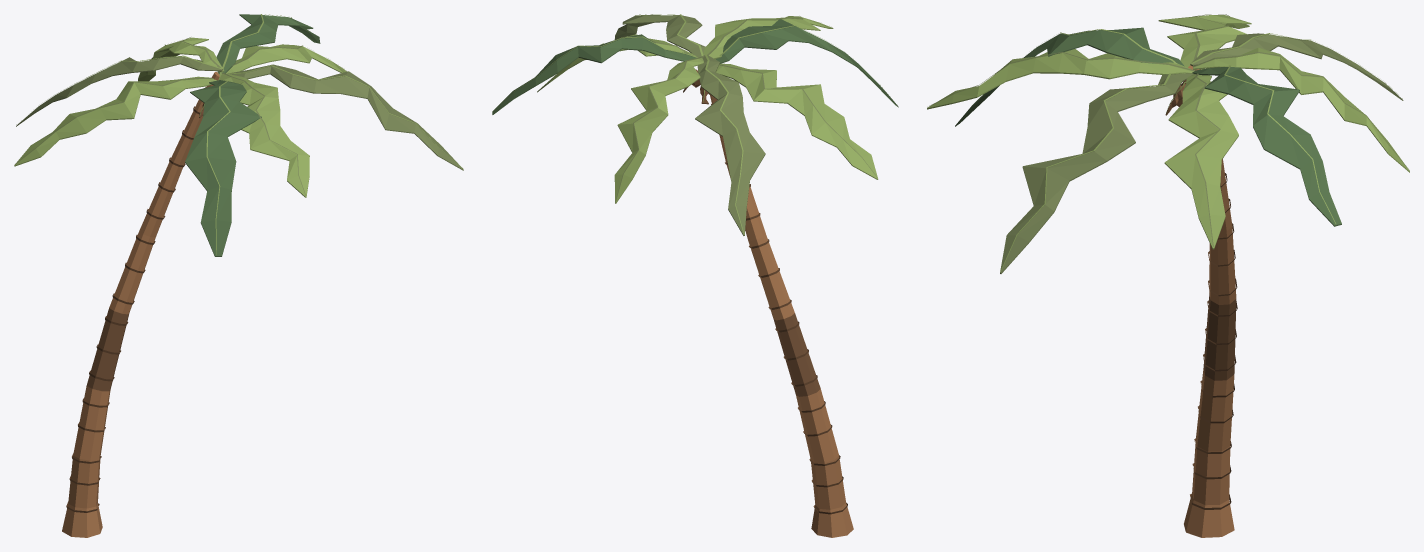
File: prop_palm_leaning.glb
3 views of the same model, side by side, from view 1: azimuth 30°, elevation 25°; view 2: azimuth 150°, elevation 25°; view 3: azimuth 270°, elevation 25° (orthographic). The views are drawn at different scales.
Visible parts, largest first — view 1: prop_palm_leaning__Wild palm frond 05, prop_palm_leaning__Wild palm frond 07, prop_palm_leaning__Wild palm frond 04, prop_palm_leaning__Wild palm frond 06, prop_palm_leaning__Wild palm frond 01, prop_palm_leaning__Wild palm frond 03, prop_palm_leaning__Bent trunk segment 02, prop_palm_leaning__Bent trunk segment 03, prop_palm_leaning__Wild palm frond 00, prop_palm_leaning__Bent trunk segment 04, prop_palm_leaning__Bent trunk segment 01, prop_palm_leaning__Bent trunk segment 05 (+3 smaller); view 2: prop_palm_leaning__Wild palm frond 03, prop_palm_leaning__Wild palm frond 04, prop_palm_leaning__Wild palm frond 02, prop_palm_leaning__Wild palm frond 01, prop_palm_leaning__Wild palm frond 05, prop_palm_leaning__Bent trunk segment 03, prop_palm_leaning__Bent trunk segment 02, prop_palm_leaning__Bent trunk segment 04, prop_palm_leaning__Wild palm frond 07, prop_palm_leaning__Wild palm frond 06, prop_palm_leaning__Bent trunk segment 01, prop_palm_leaning__Bent trunk segment 00 (+2 smaller); view 3: prop_palm_leaning__Wild palm frond 07, prop_palm_leaning__Wild palm frond 00, prop_palm_leaning__Wild palm frond 01, prop_palm_leaning__Wild palm frond 06, prop_palm_leaning__Wild palm frond 02, prop_palm_leaning__Wild palm frond 05, prop_palm_leaning__Bent trunk segment 02, prop_palm_leaning__Wild palm frond 04, prop_palm_leaning__Bent trunk segment 03, prop_palm_leaning__Wild palm frond 03, prop_palm_leaning__Bent trunk segment 01, prop_palm_leaning__Bent trunk segment 04 (+1 smaller).
Boxes of the visible parts, box(x1,y1,x2,y2) form: prop_palm_leaning__Wild palm frond 05: box(185, 80, 261, 256); prop_palm_leaning__Wild palm frond 07: box(228, 64, 463, 170); prop_palm_leaning__Wild palm frond 04: box(14, 76, 216, 166); prop_palm_leaning__Wild palm frond 06: box(218, 73, 309, 197); prop_palm_leaning__Wild palm frond 01: box(216, 14, 320, 74); prop_palm_leaning__Wild palm frond 03: box(16, 56, 222, 126); prop_palm_leaning__Bent trunk segment 02: box(73, 386, 110, 460); prop_palm_leaning__Bent trunk segment 03: box(86, 308, 129, 391); prop_palm_leaning__Wild palm frond 00: box(226, 44, 346, 73); prop_palm_leaning__Bent trunk segment 04: box(109, 231, 155, 314); prop_palm_leaning__Bent trunk segment 01: box(68, 455, 100, 508); prop_palm_leaning__Bent trunk segment 05: box(139, 162, 182, 237); prop_palm_leaning__Wild palm frond 03: box(695, 55, 765, 235); prop_palm_leaning__Wild palm frond 04: box(716, 63, 878, 179); prop_palm_leaning__Wild palm frond 02: box(614, 57, 703, 203); prop_palm_leaning__Wild palm frond 01: box(492, 34, 696, 114); prop_palm_leaning__Wild palm frond 05: box(715, 19, 898, 107); prop_palm_leaning__Bent trunk segment 03: box(773, 313, 820, 396); prop_palm_leaning__Bent trunk segment 02: box(796, 388, 838, 462); prop_palm_leaning__Bent trunk segment 04: box(748, 235, 794, 320); prop_palm_leaning__Wild palm frond 07: box(614, 14, 705, 57); prop_palm_leaning__Wild palm frond 06: box(703, 16, 833, 58); prop_palm_leaning__Bent trunk segment 01: box(810, 455, 845, 509); prop_palm_leaning__Bent trunk segment 00: box(811, 502, 853, 537); prop_palm_leaning__Wild palm frond 07: box(1000, 73, 1194, 273); prop_palm_leaning__Wild palm frond 00: box(1164, 74, 1238, 249); prop_palm_leaning__Wild palm frond 01: box(1192, 67, 1341, 226); prop_palm_leaning__Wild palm frond 06: box(927, 49, 1193, 109); prop_palm_leaning__Wild palm frond 02: box(1193, 47, 1409, 172); prop_palm_leaning__Wild palm frond 05: box(955, 27, 1184, 126); prop_palm_leaning__Bent trunk segment 02: box(1196, 368, 1234, 451); prop_palm_leaning__Wild palm frond 04: box(1158, 15, 1251, 69); prop_palm_leaning__Bent trunk segment 03: box(1203, 293, 1236, 380); prop_palm_leaning__Wild palm frond 03: box(1190, 33, 1403, 100); prop_palm_leaning__Bent trunk segment 01: box(1192, 439, 1230, 505); prop_palm_leaning__Bent trunk segment 04: box(1209, 226, 1236, 304).
Size of the model in its own units: 5.27 by 6.37 by 4.92.
